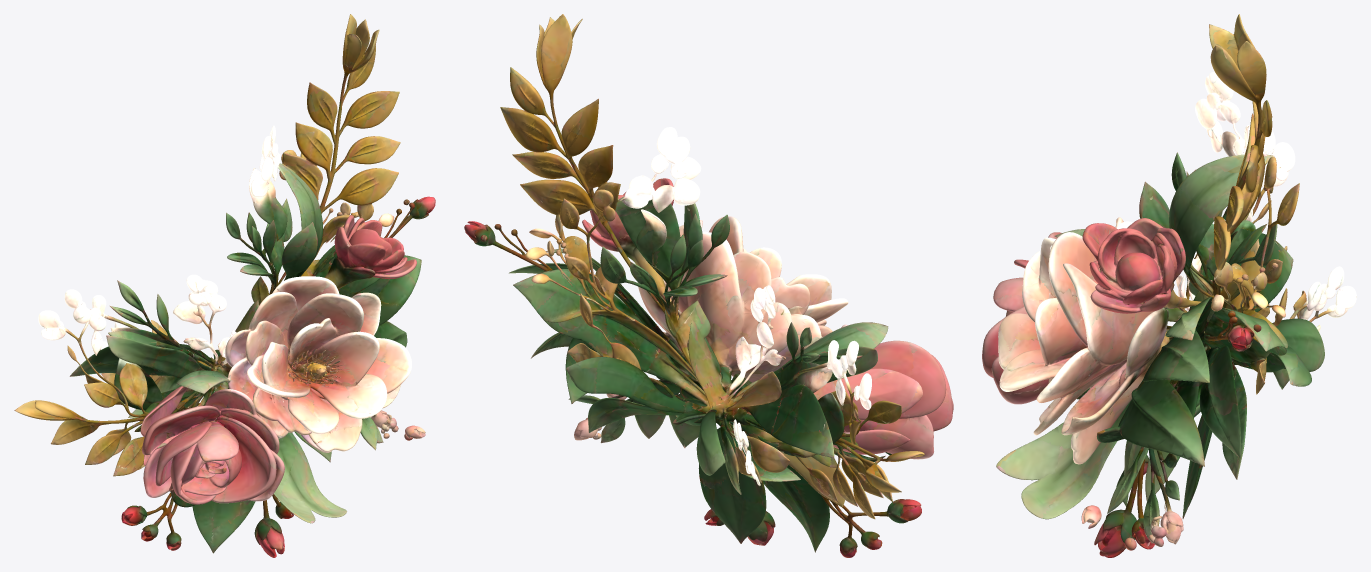
Rendered from flower-cascade-2-70degrees.glb.
3 views of the same model, side by side, from view 1: azimuth 30°, elevation 25°; view 2: azimuth 150°, elevation 25°; view 3: azimuth 270°, elevation 25° (orthographic). The views are drawn at different scales.
Visible parts, largest first — view 1: Mesh_0; view 2: Mesh_0; view 3: Mesh_0.
Boxes of the visible parts, x1,y1,x2,y2 form: Mesh_0: [14, 14, 435, 557]; Mesh_0: [464, 14, 953, 557]; Mesh_0: [982, 14, 1356, 557].
Size of the model in its own units: 1.68 by 1.9 by 1.03.
Materials: 1 (1 with a texture image).
